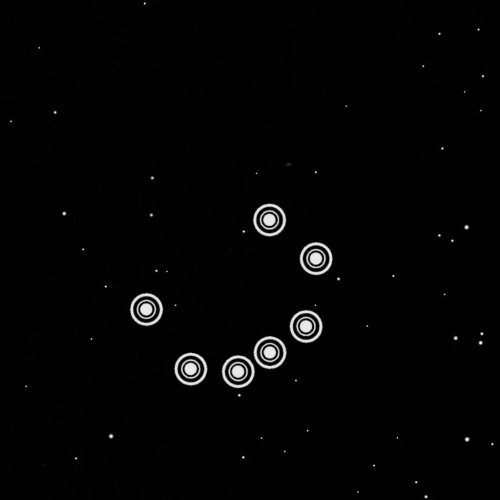corona_borealis: (126, 196, 341, 395)
